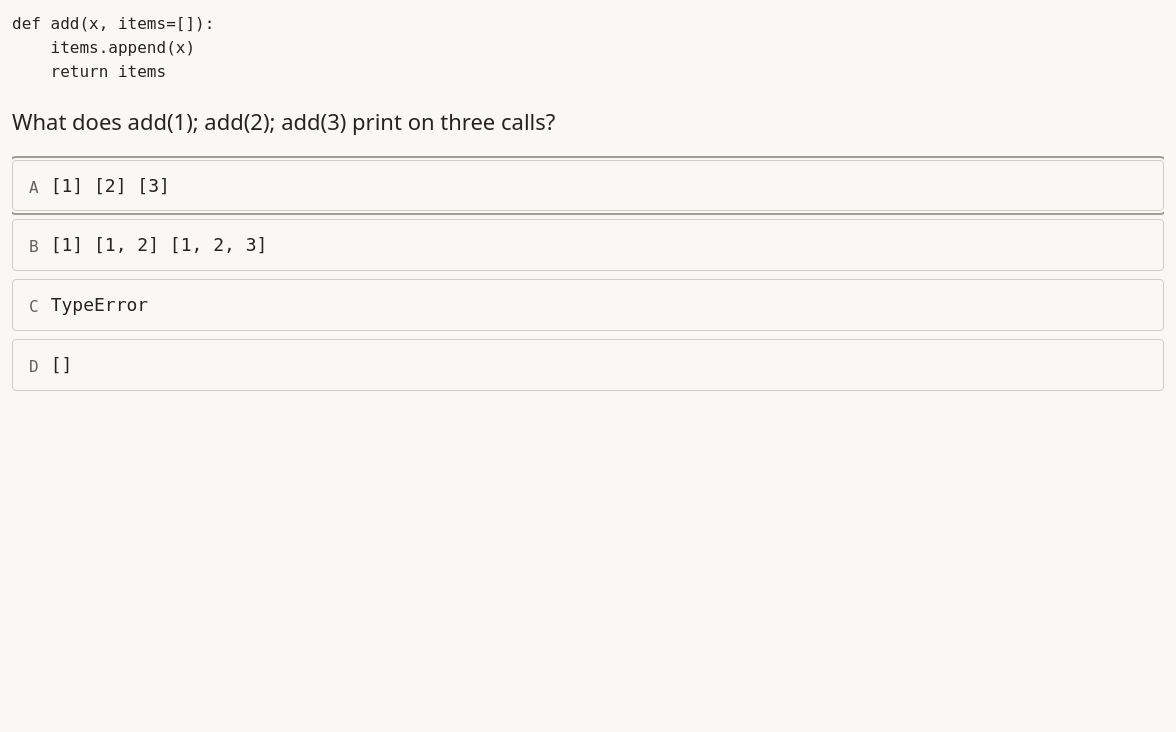
it: CodeTrapCard — post-submit › the single explanation_md surfaces after submit
This screenshot has width=1176, height=732.
Click the button "C TypeError" at (99, 305), box [12,279,1164,331]
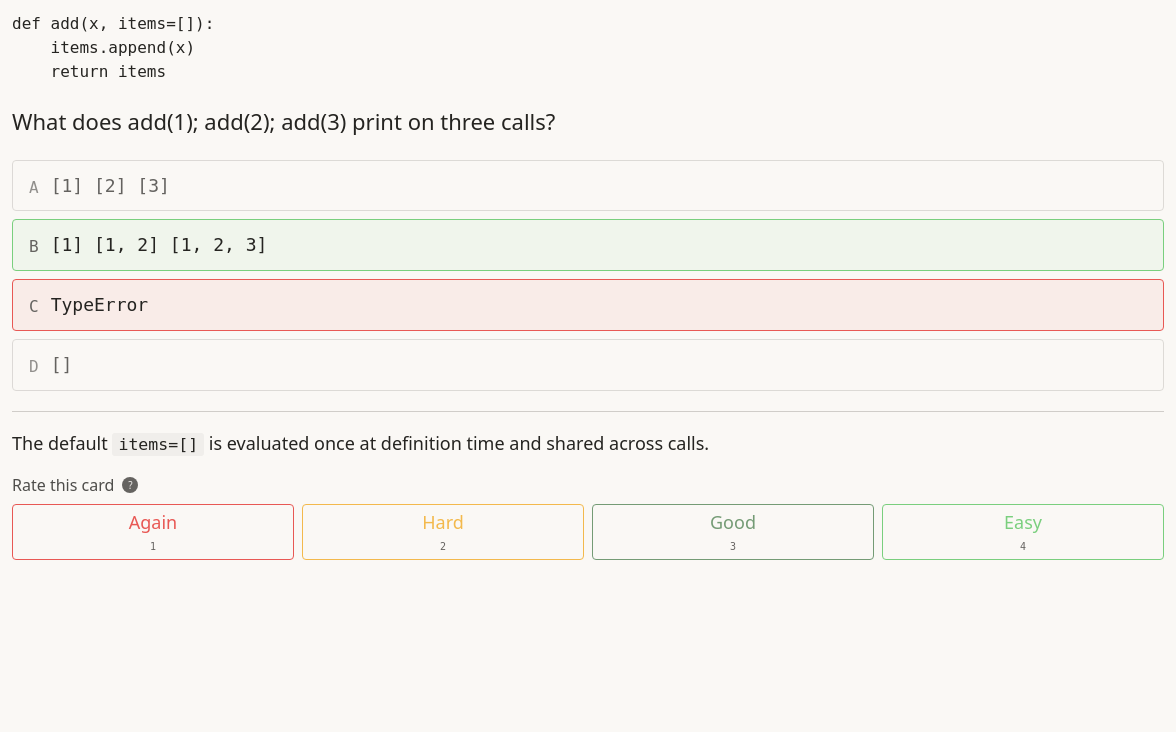
expect the text "evaluated once at definition time" is shown: met, box [204,431,709,455]
